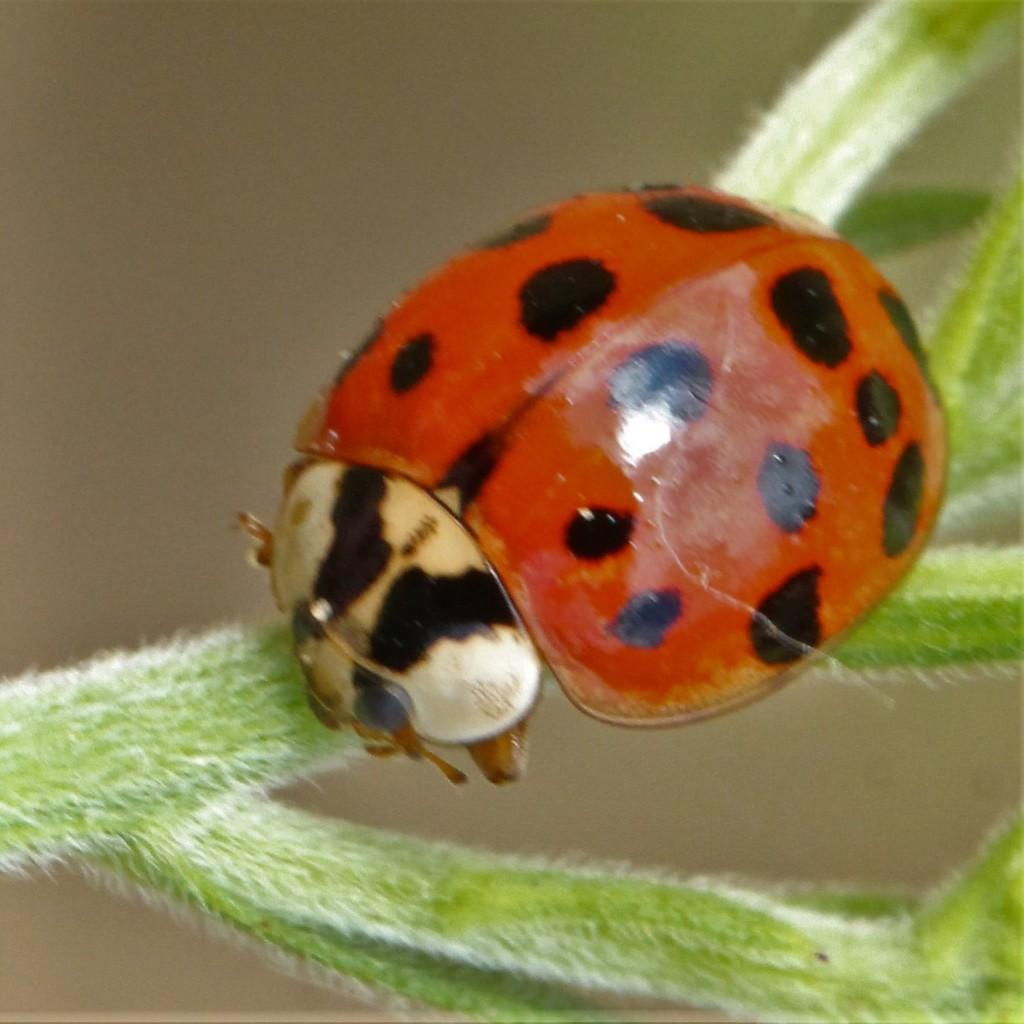ladybug: (234, 179, 959, 789)
